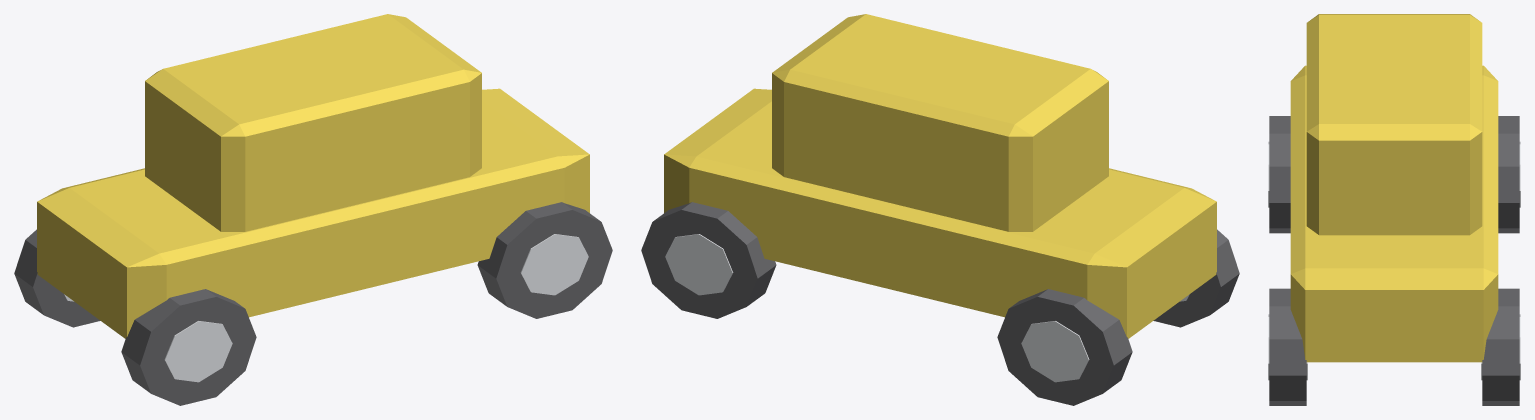
The model's file is b07_silenced_diesel_generator_trailer.glb.
3 views of the same model, side by side, from view 1: azimuth 30°, elevation 25°; view 2: azimuth 150°, elevation 25°; view 3: azimuth 270°, elevation 25° (orthographic).
Parts seen in each view (by area): view 1: b07_silenced_diesel_generator_trailer; view 2: b07_silenced_diesel_generator_trailer; view 3: b07_silenced_diesel_generator_trailer.
Boxes of the visible parts, x1=… form: b07_silenced_diesel_generator_trailer: x1=14, y1=14, x2=612, y2=405; b07_silenced_diesel_generator_trailer: x1=641, y1=14, x2=1239, y2=405; b07_silenced_diesel_generator_trailer: x1=1268, y1=14, x2=1520, y2=405.
Size of the model in its own units: 4.57 by 2.24 by 2.13.
